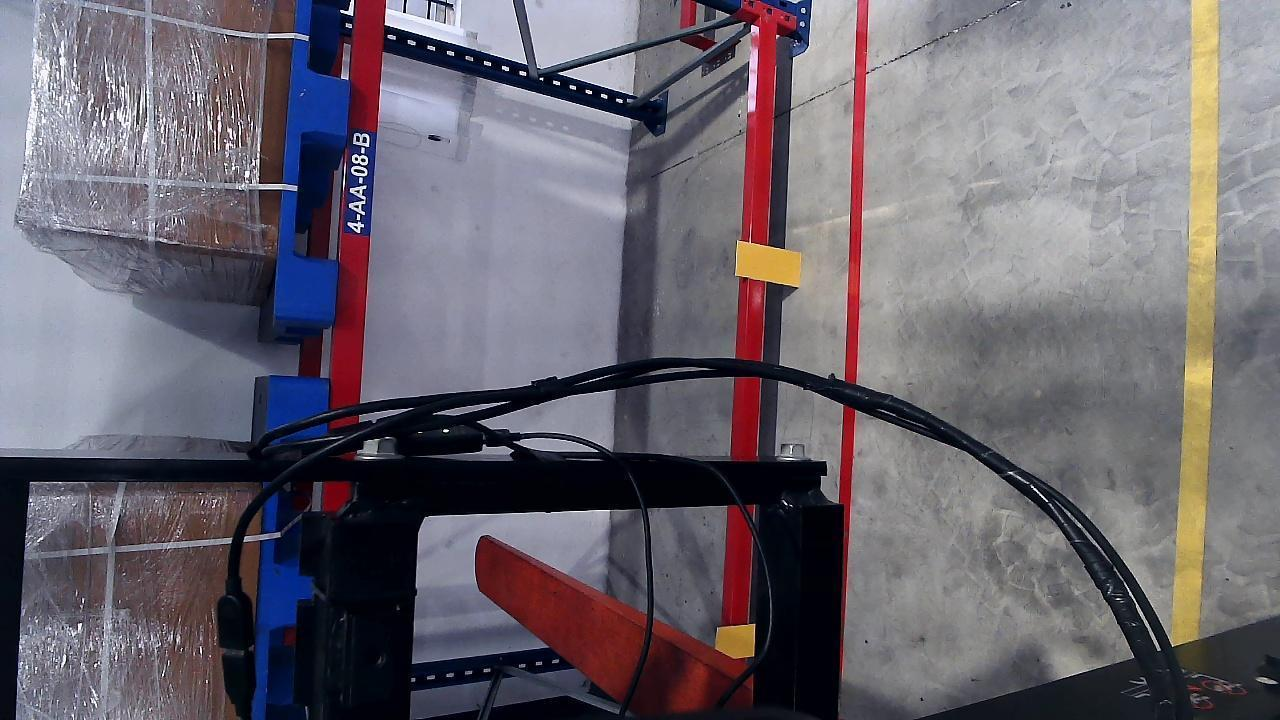red_line: (838, 2, 868, 503)
yellow_line: (1171, 0, 1221, 658)
